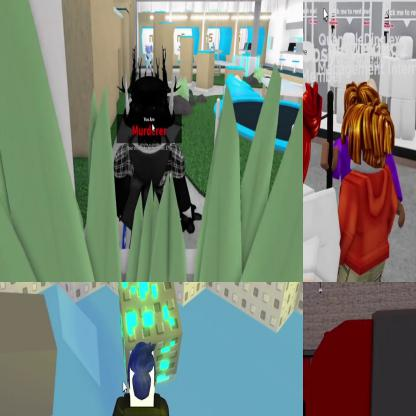Roblox-Avatar: (115, 47, 193, 251), (331, 97, 399, 282), (321, 82, 406, 229), (304, 81, 342, 282), (109, 341, 175, 416)
